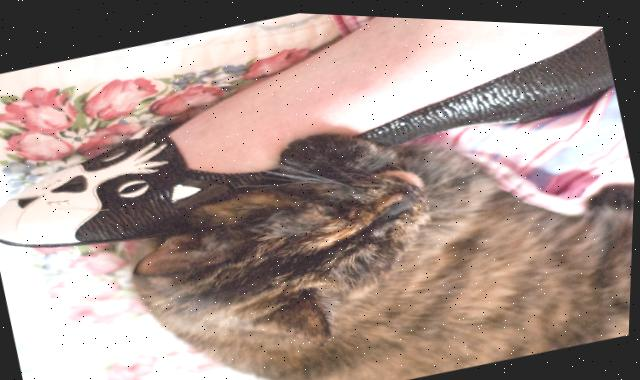cat: (116, 118, 634, 380)
